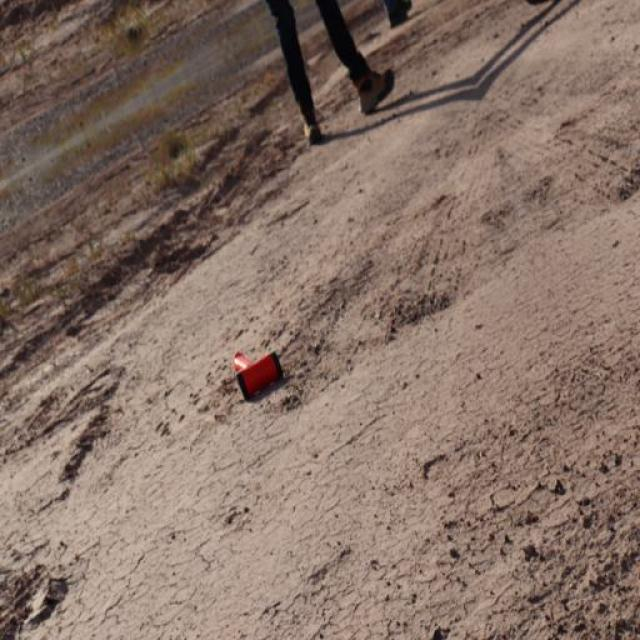mallet: (231, 348, 284, 400)
